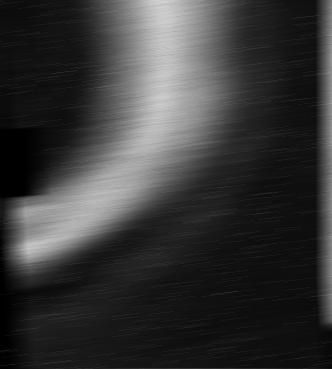Airbag: (0, 0, 332, 369), (326, 0, 332, 342)
